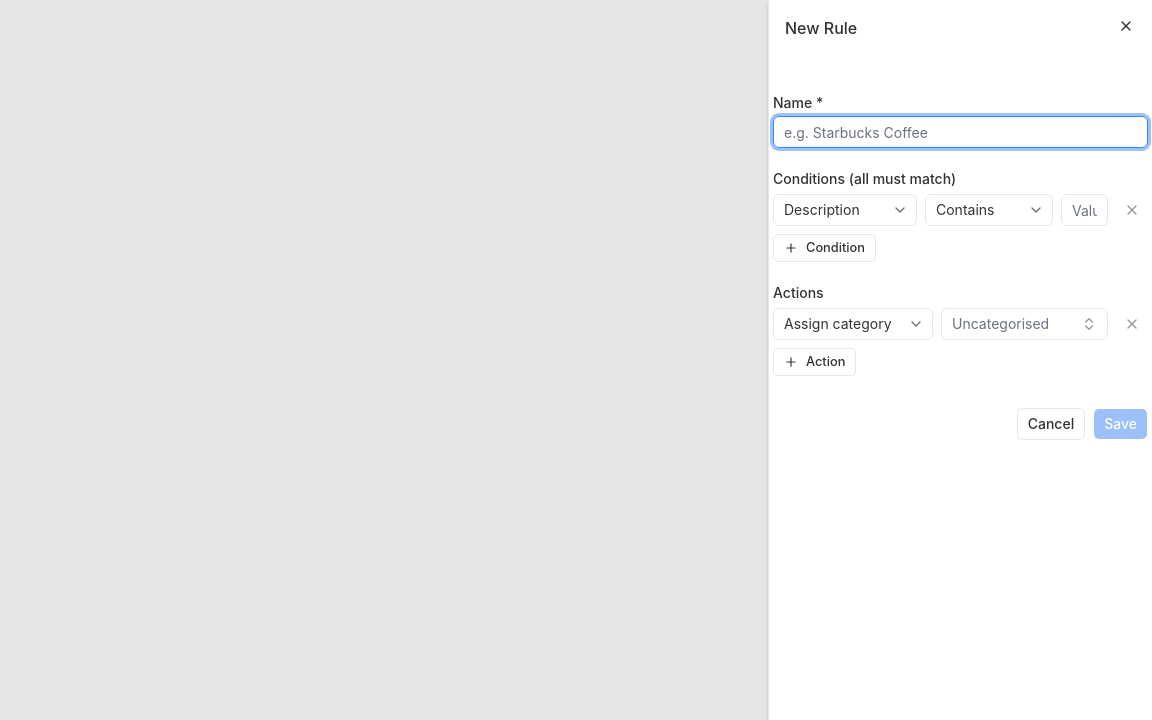
Test: RuleBuilderSheet — set_note action › shows text input when set_note action type is selected
The image size is (1152, 720).
Expected: the element with test id "action-row-0" is shown, [773,308,1148,340]
Open action type select and pick set_note
Click the dropdown with test id "action-type-0".
click(853, 324)  # box [773,308,933,340]
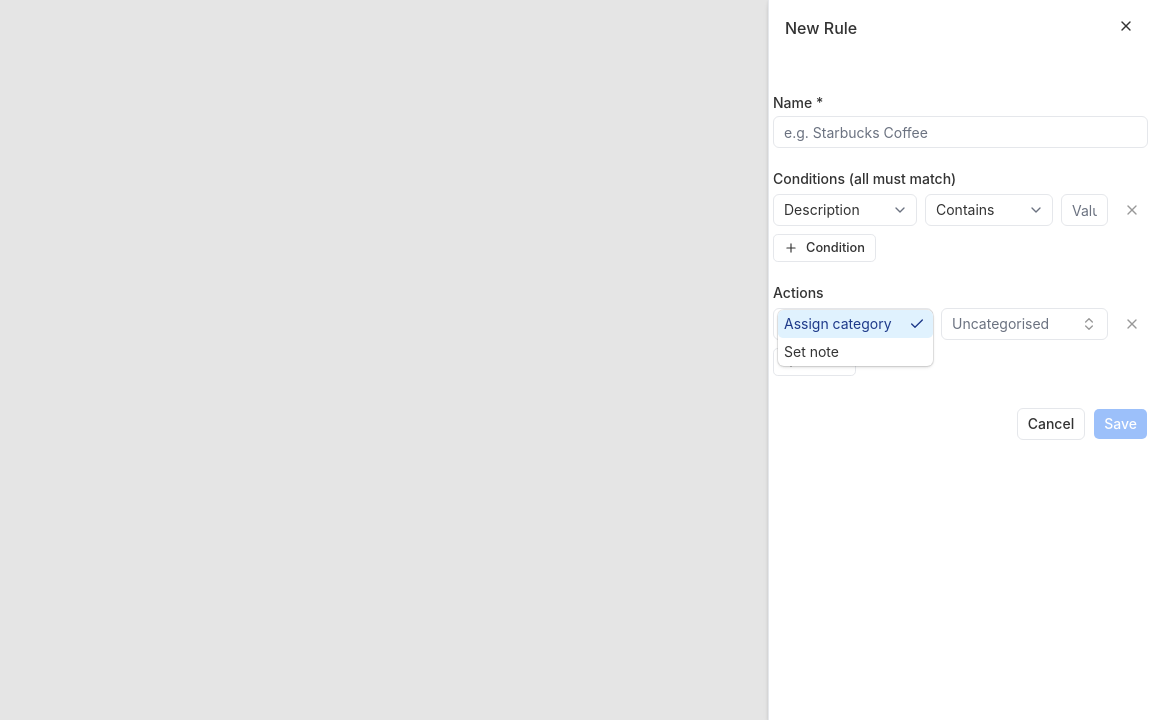
Expected: the text "Set note" is shown
Click the option "Set note".
click(811, 352)  # box [784,343,839,360]
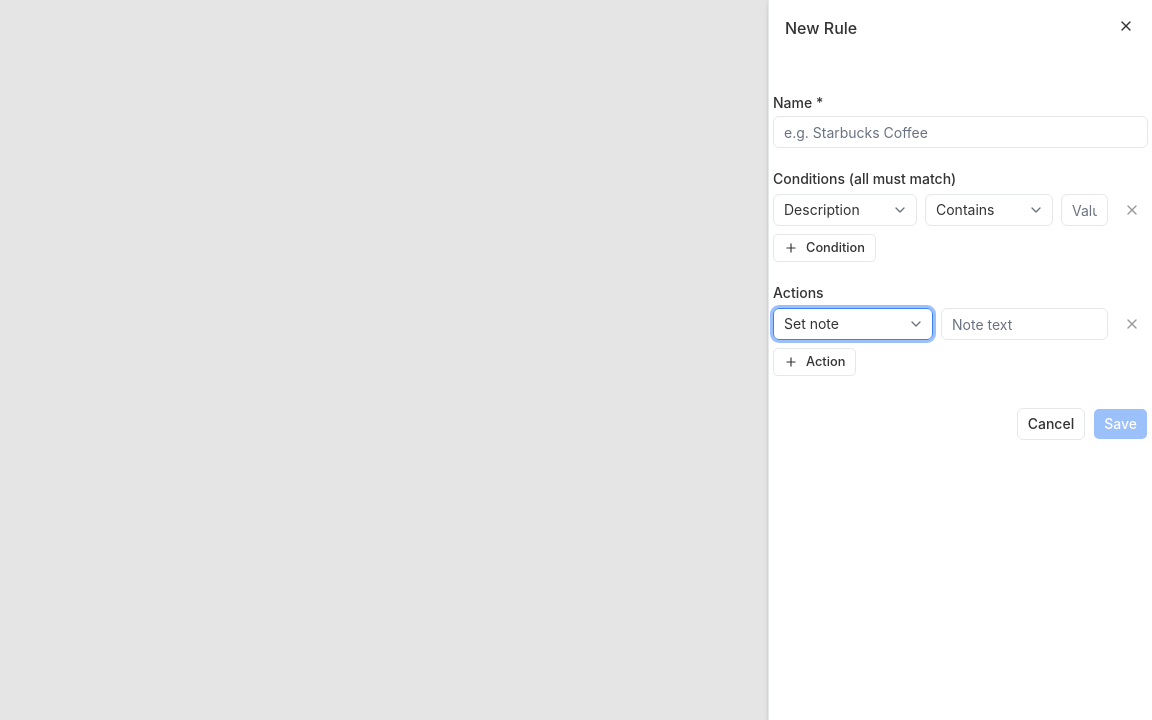
Expected: the field with test id "action-note-0" is shown, [941,308,1108,340]
